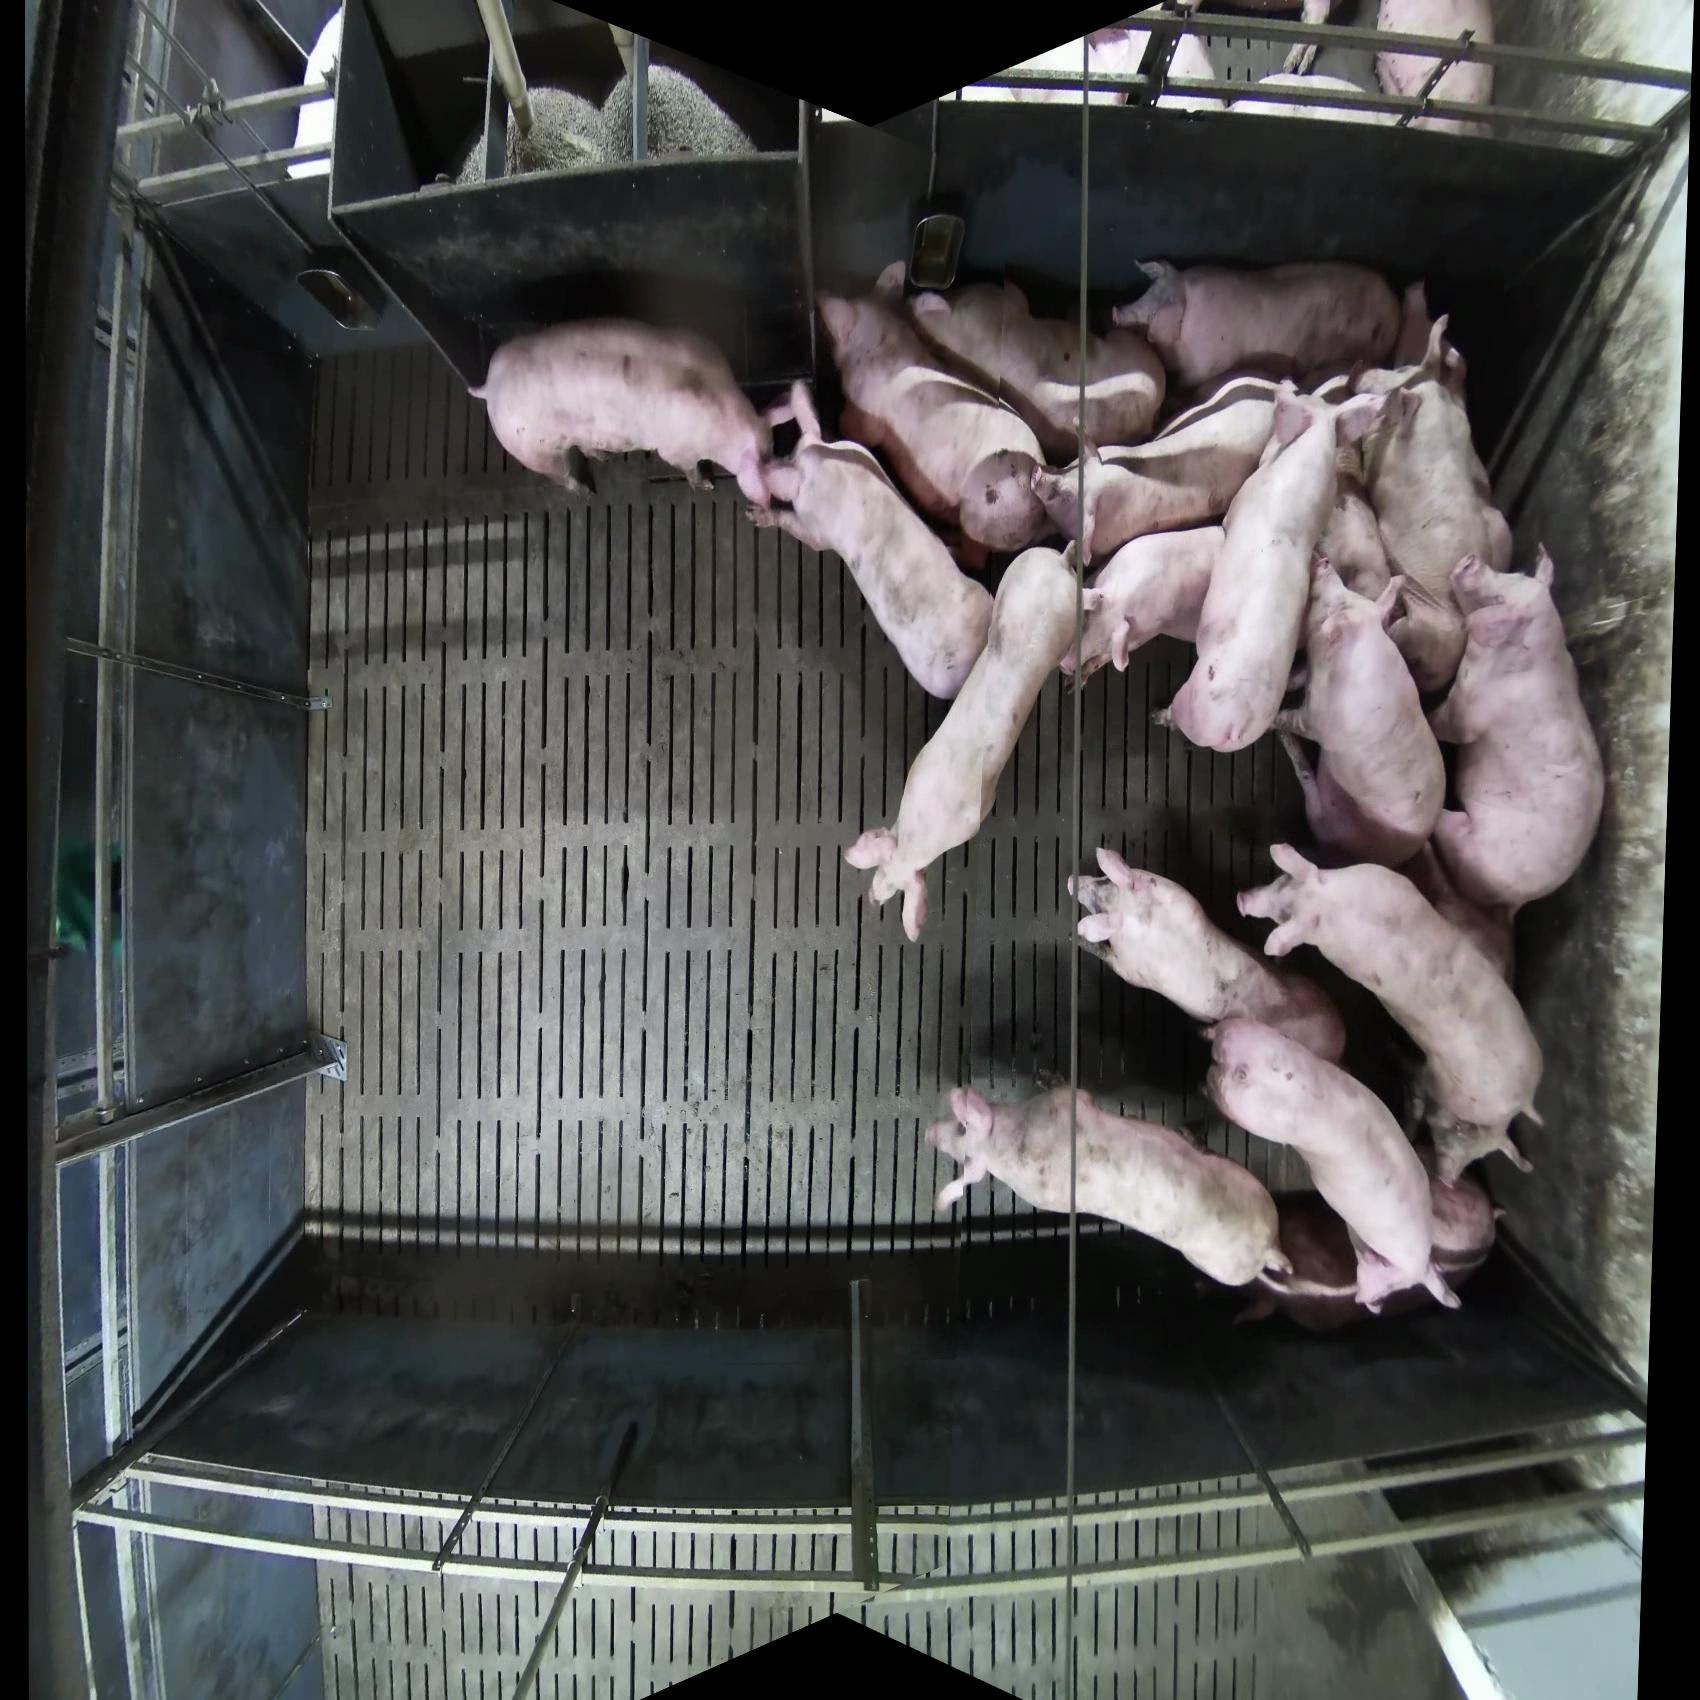pig: (1238, 842, 1547, 1186), (844, 542, 1087, 945), (1154, 375, 1386, 755), (744, 378, 996, 704), (1200, 1013, 1466, 1317), (925, 1080, 1295, 1298), (814, 262, 1052, 557), (1428, 542, 1608, 922), (465, 314, 775, 512), (1068, 845, 1347, 1065), (1354, 314, 1515, 694), (1275, 553, 1449, 869), (1032, 372, 1284, 567), (908, 277, 1168, 465), (1231, 1171, 1501, 1331), (1112, 255, 1404, 394), (1059, 523, 1224, 691), (1375, 2, 1498, 137)
